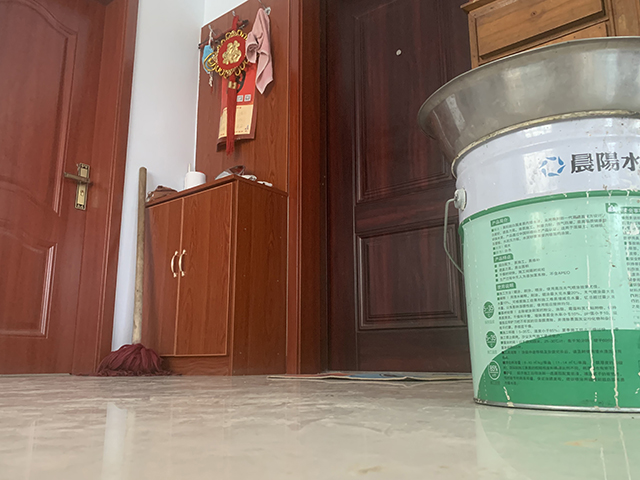cabinet: (141, 172, 289, 377)
carpet: (268, 369, 472, 382)
